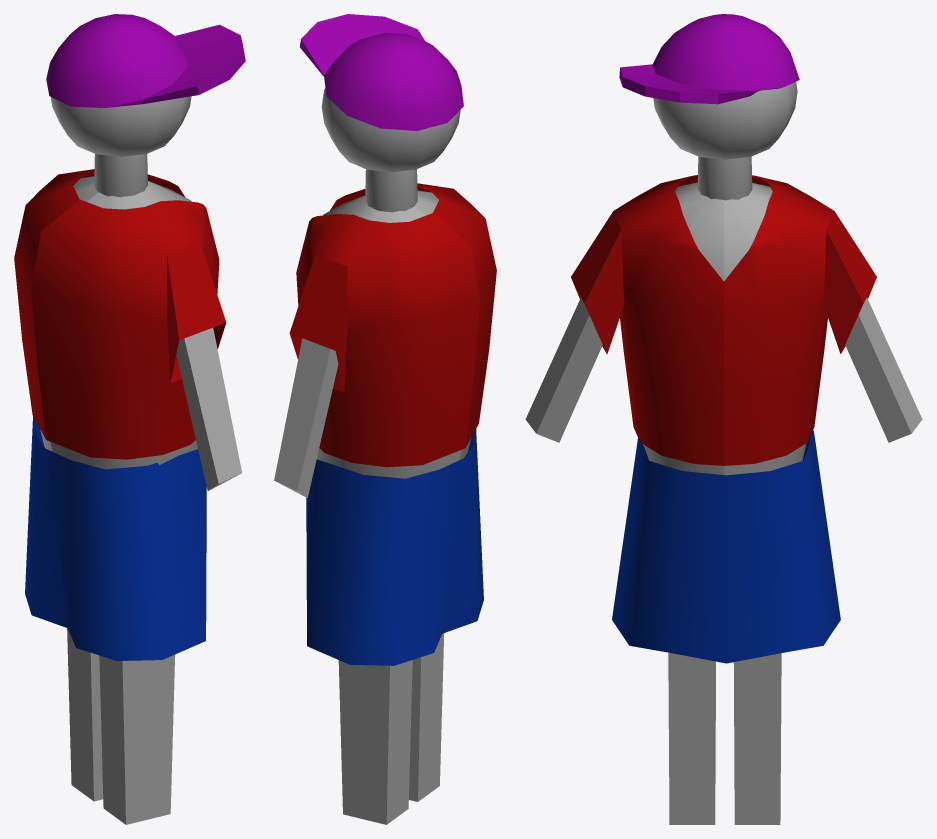
The model's file is mann.fbx.
3 renders of one model, left to right at view 1: azimuth 30°, elevation 25°; view 2: azimuth 150°, elevation 25°; view 3: azimuth 270°, elevation 25°, orthographic. The views are drawn at different scales.
Visible parts, largest first — view 1: pCylinder4, pCube3, pSphere3, pSphere2; view 2: pCylinder4, pCube3, pSphere3, pSphere2; view 3: pCylinder4, pSphere3, pCube3, pSphere2.
Part boxes in pixels (x1,y1,x2,y2): pCylinder4: (14, 169, 226, 459); pCube3: (25, 416, 206, 660); pSphere3: (40, 96, 241, 824); pSphere2: (46, 14, 245, 107); pCylinder4: (289, 183, 496, 467); pCube3: (306, 429, 483, 665); pSphere3: (274, 88, 471, 824); pSphere2: (300, 14, 463, 130); pCylinder4: (571, 175, 876, 465); pSphere3: (525, 82, 922, 824); pCube3: (612, 430, 840, 663); pSphere2: (619, 14, 799, 104).
Bounding box in the file's own units: 37.64 × 148 × 66.99.
